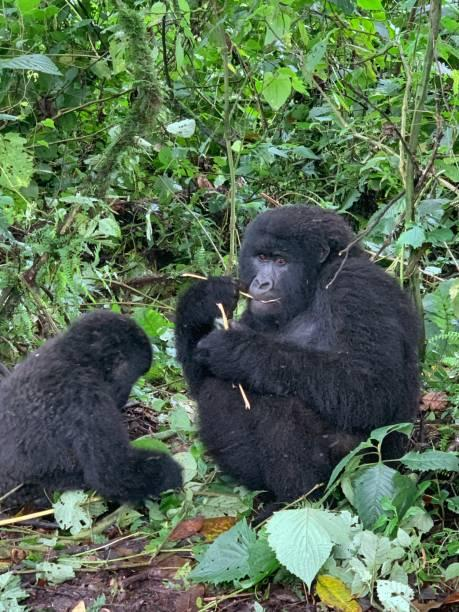goriile_montagne: (170, 195, 445, 482), (0, 250, 199, 507)
